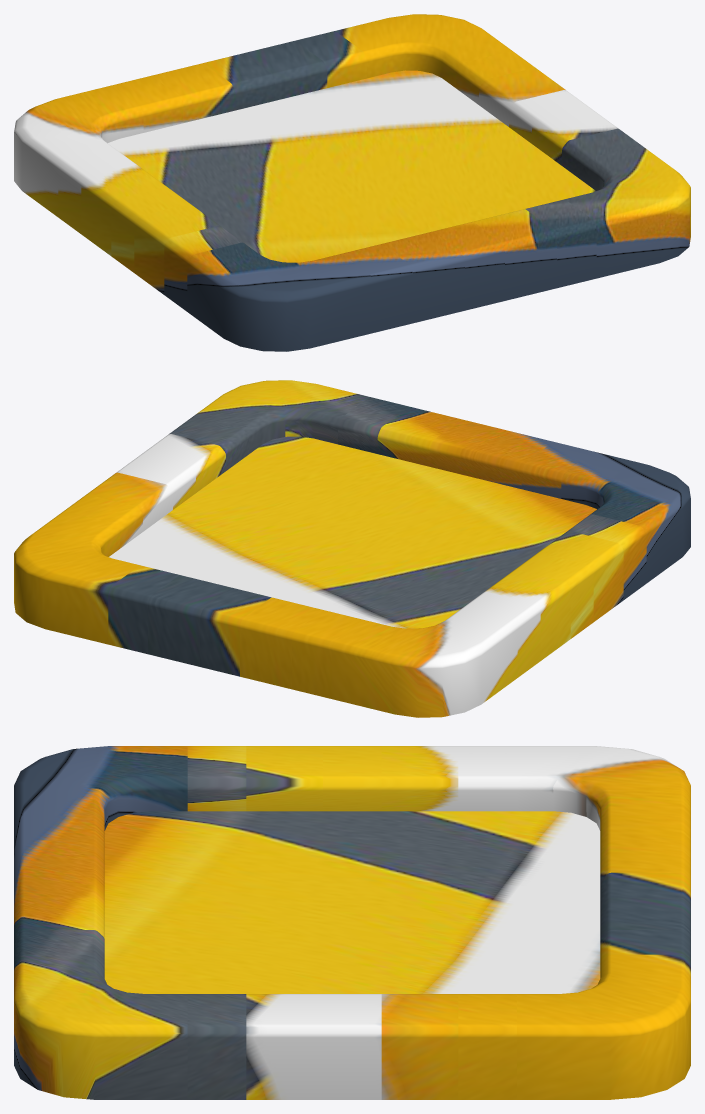
The model's file is Podium (1).fbx.
The picture shows the model from 3 angles, top to bottom: view 1: azimuth 30°, elevation 25°; view 2: azimuth 150°, elevation 25°; view 3: azimuth 270°, elevation 25°; orthographic projection. The views are drawn at different scales.
Parts seen in each view (by area): view 1: Podium; view 2: Podium; view 3: Podium.
Boxes of the visible parts, bbox=[...] form: Podium: bbox=[14, 14, 690, 351]; Podium: bbox=[14, 380, 690, 717]; Podium: bbox=[14, 746, 690, 1099].
Size of the model in its own units: 1.79 by 0.2091 by 1.79.
